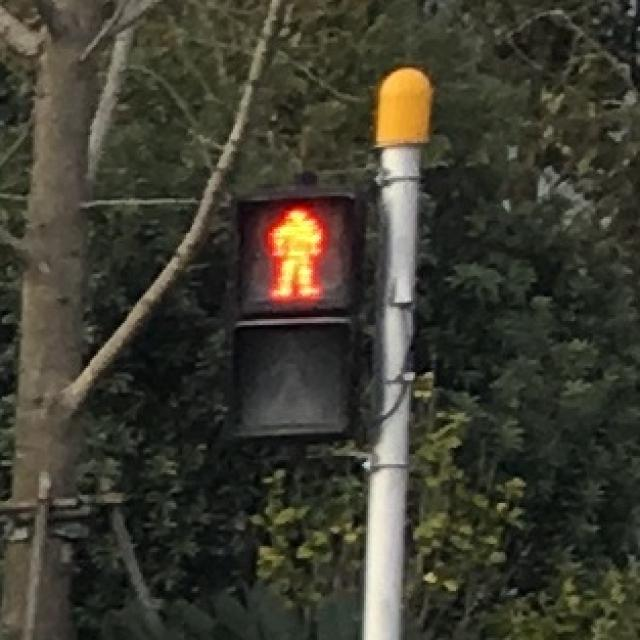red_light: (239, 196, 346, 309)
